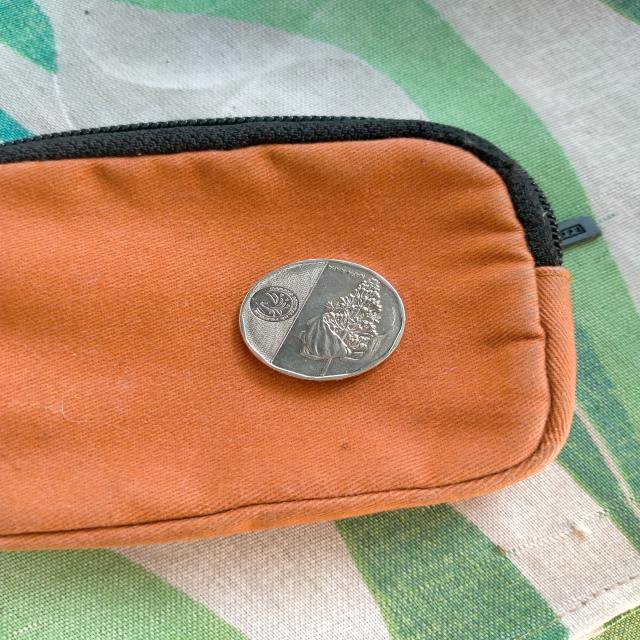10_New_Back: (287, 260, 406, 386)
